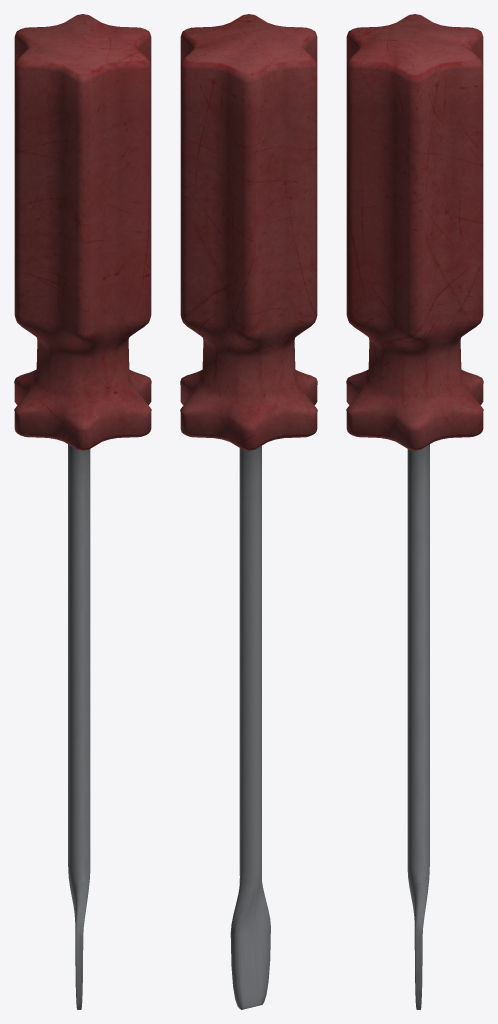
Rendered from props_screwdriver.fbx.
The picture shows the model from 3 angles, left to right: view 1: azimuth 90°, elevation 25°; view 2: azimuth 210°, elevation 25°; view 3: azimuth 270°, elevation 25°; orthographic projection.
Visible parts, largest first — view 1: props_screwdriver_geo; view 2: props_screwdriver_geo; view 3: props_screwdriver_geo.
Part boxes in pixels (x1=…): props_screwdriver_geo: x1=14, y1=14, x2=151, y2=1009; props_screwdriver_geo: x1=180, y1=14, x2=317, y2=1009; props_screwdriver_geo: x1=346, y1=14, x2=483, y2=1009.
Size of the model in its own units: 0.0263 by 0.179 by 0.0232.
1 material, 1 textured.
